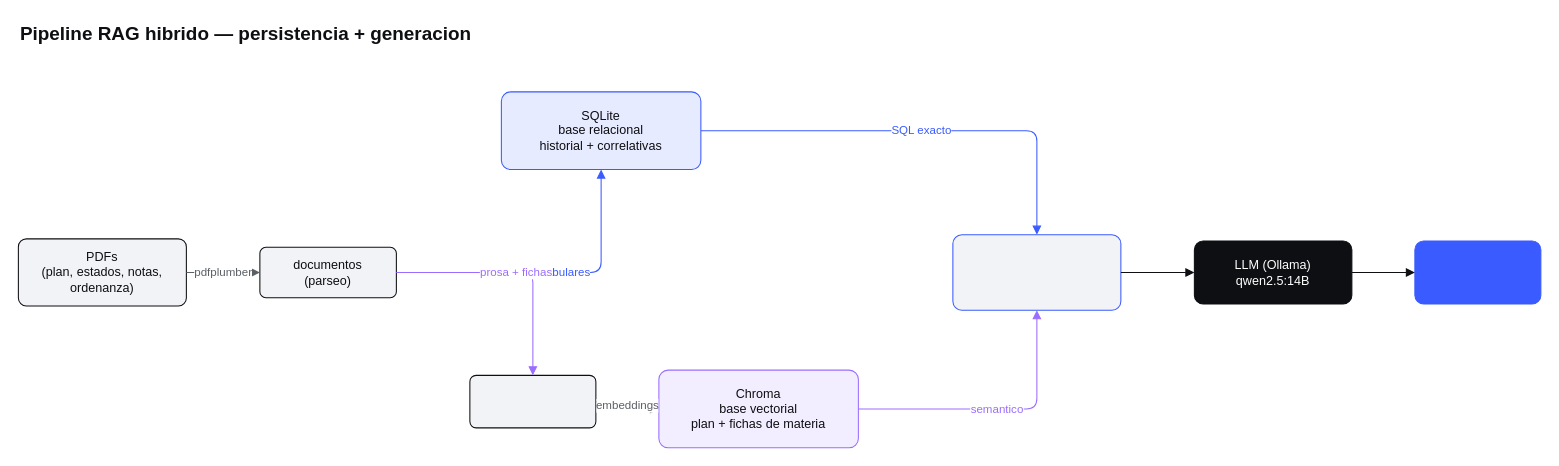
The diagram is 1559 pixels wide and 466 high, and some of its shapes have lost their labels. Each missing label, with the centre of its shape:
"artefacto generado" goes at (1477,272).
"contexto combinado (retrieval hibrido)" goes at (1036,272).
"MiniLM embeddings" goes at (532,401).
